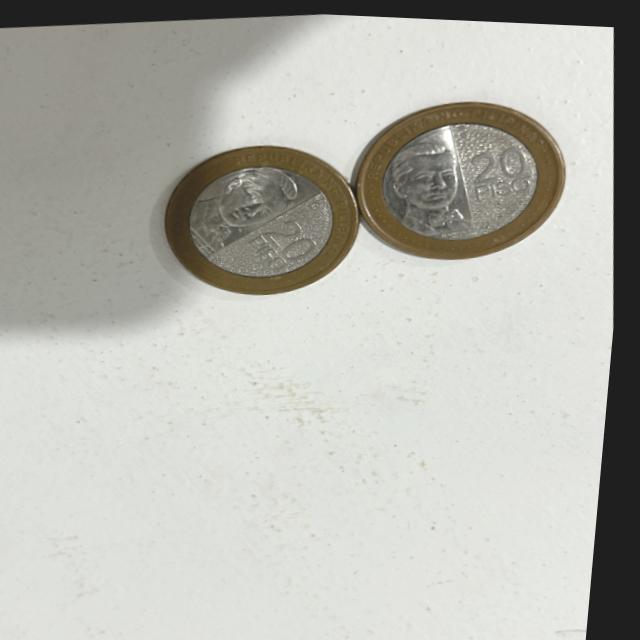20_New_Front: (455, 136, 539, 198), (246, 218, 321, 271)
